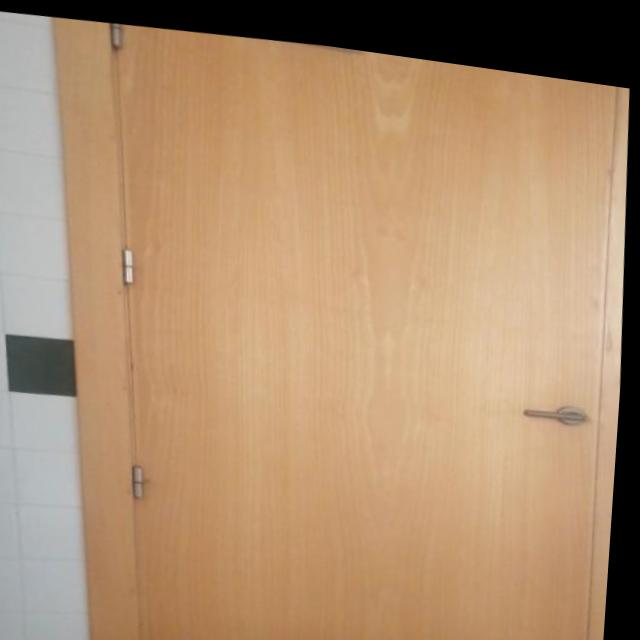door_handle: (527, 387, 594, 407)
